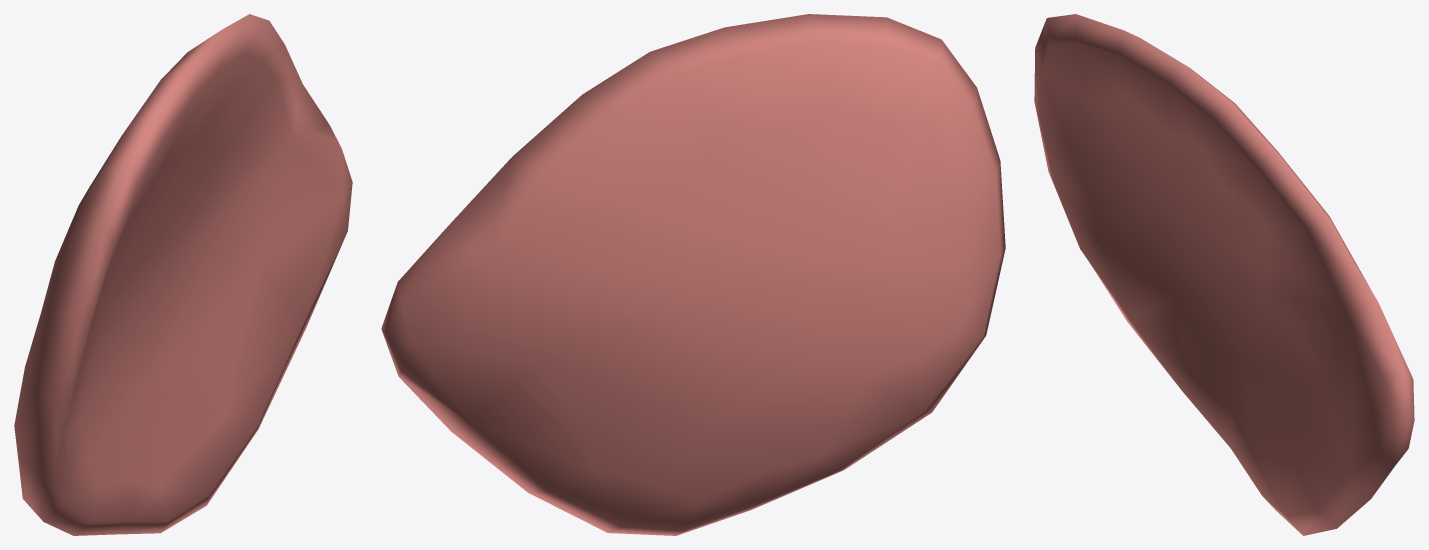
3 views of the same model, side by side, from view 1: azimuth 30°, elevation 25°; view 2: azimuth 150°, elevation 25°; view 3: azimuth 270°, elevation 25° (orthographic). The views are drawn at different scales.
Parts seen in each view (by area): view 1: ZA_acb66815e81f1a3b; view 2: ZA_acb66815e81f1a3b; view 3: ZA_acb66815e81f1a3b.
Part boxes in pixels (box(x1,y1,x2,y2)): ZA_acb66815e81f1a3b: box(14, 14, 352, 535); ZA_acb66815e81f1a3b: box(381, 14, 1005, 535); ZA_acb66815e81f1a3b: box(1034, 14, 1414, 535).
Size of the model in its own units: 0.00534 by 0.00549 by 0.00415.
